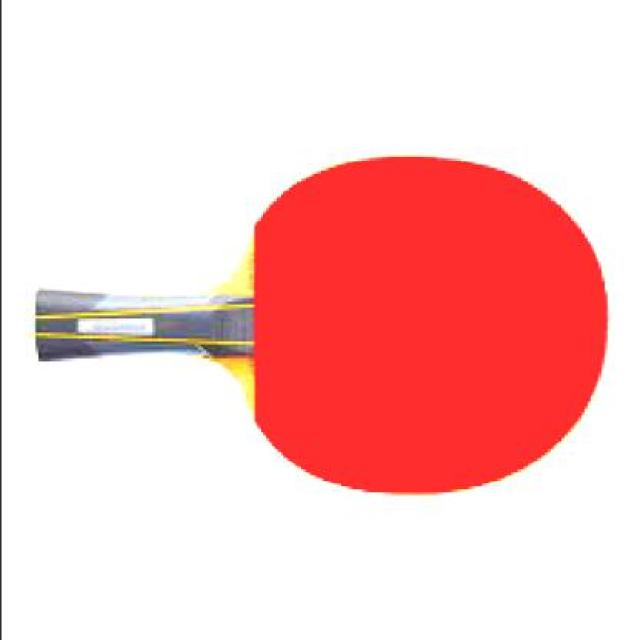table_tennis_racket: (223, 153, 612, 498)
